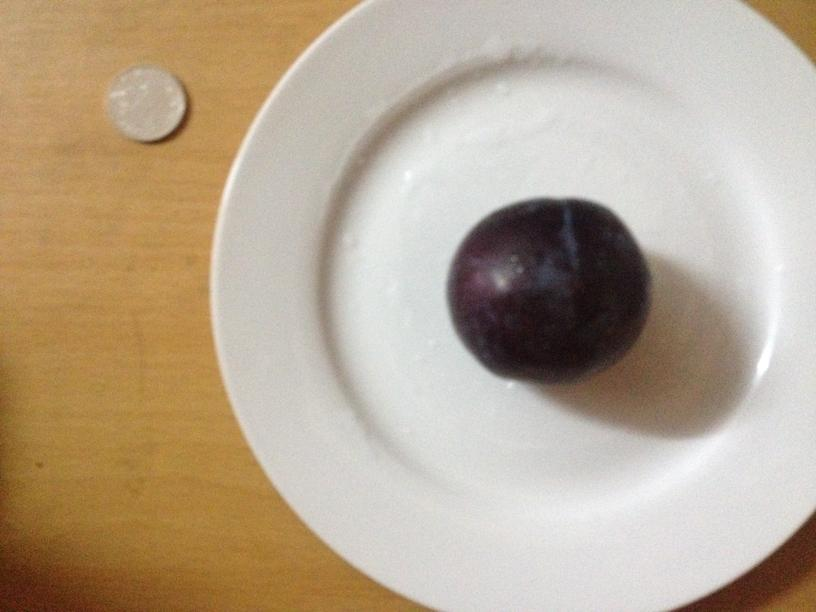coin: (106, 69, 187, 145)
plum: (447, 201, 648, 382)
